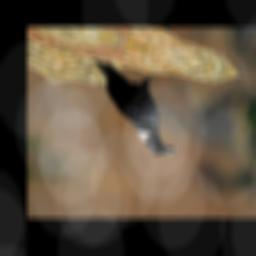Crow: (69, 52, 200, 161)
